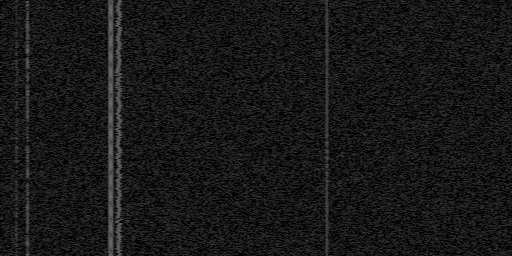wv_am: (324, 0, 330, 256)
wv_cw: (107, 0, 113, 256), (109, 0, 114, 256)
wv_lsb: (110, 157, 114, 185), (110, 189, 114, 216), (110, 233, 114, 256), (110, 29, 114, 46), (110, 138, 114, 154), (110, 105, 114, 117), (110, 118, 114, 126), (110, 65, 114, 73), (110, 56, 114, 64), (110, 220, 114, 225), (110, 131, 114, 136), (110, 47, 114, 52), (110, 226, 114, 229), (110, 127, 114, 130), (110, 82, 113, 86), (110, 74, 113, 78), (110, 89, 113, 92)
wv_usb: (25, 1, 31, 256), (14, 0, 19, 116), (14, 117, 19, 220), (125, 193, 130, 238), (14, 221, 19, 256), (126, 89, 130, 103), (126, 152, 130, 166), (126, 119, 130, 132), (126, 42, 130, 50), (126, 140, 130, 148), (126, 176, 129, 185), (126, 104, 129, 112), (126, 79, 130, 85), (126, 239, 129, 247), (126, 9, 129, 17), (126, 66, 129, 73), (126, 57, 130, 62), (126, 74, 130, 78), (126, 52, 130, 56), (126, 113, 129, 118), (126, 167, 129, 172), (126, 133, 129, 138), (126, 253, 130, 256), (126, 20, 129, 24), (126, 4, 129, 8), (126, 186, 129, 189)
wv_wbfm: (113, 0, 124, 256)
